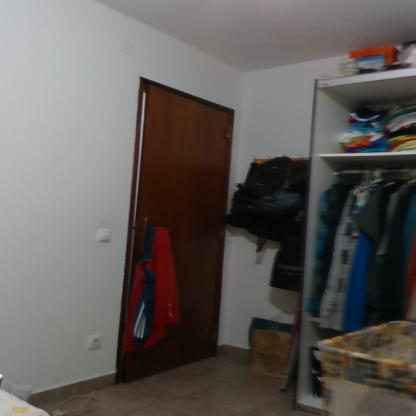door: (136, 80, 223, 366)
hinged: (226, 124, 232, 140)
